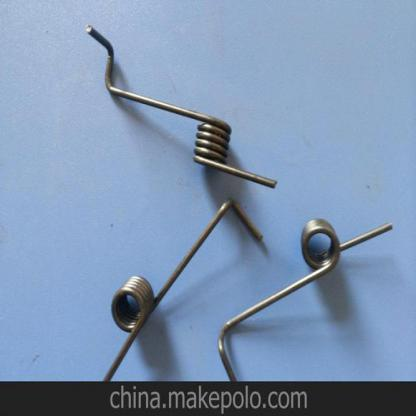FOD: (85, 23, 282, 187), (99, 197, 265, 382), (217, 216, 393, 381)
